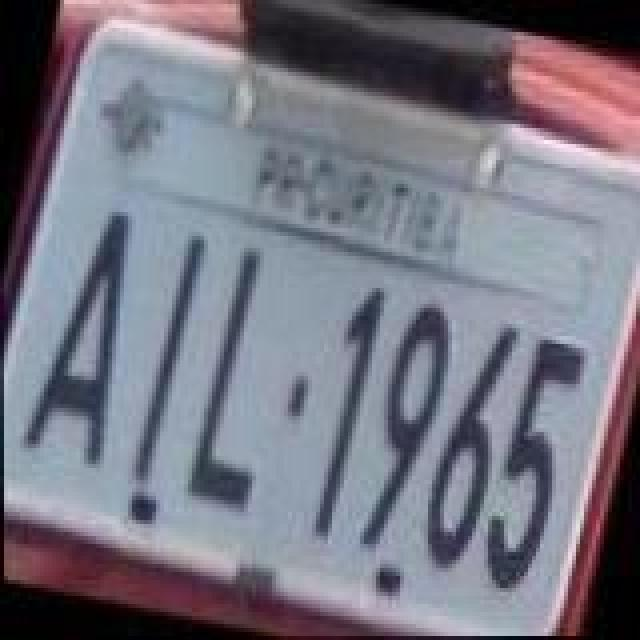1: (300, 282, 388, 546), (130, 228, 210, 488)
5: (470, 330, 586, 598)
6: (412, 312, 524, 584)
9: (354, 300, 462, 564)
A: (18, 198, 154, 474)
L: (180, 246, 300, 514)
